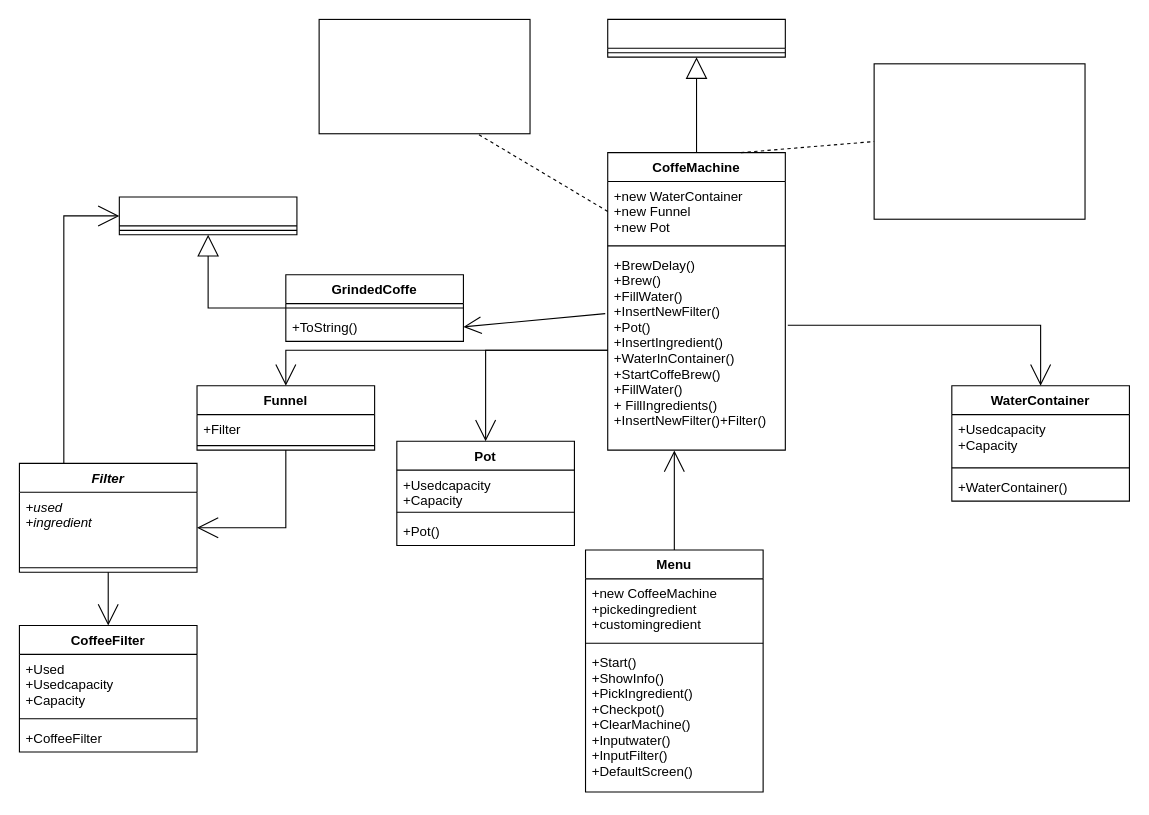
This 1149x815 diagram has some shape labels left out. The centre of each missing label's shape, as x and y in pixels:
"<<Interface>> IBrew + Brew()" goes at point (424, 76).
"<<Interface>> IFill +FillWater + FillIngredients +InsertNewFilter" goes at point (979, 141).
"ingredient" goes at point (207, 215).
"Machine" goes at point (696, 37).
